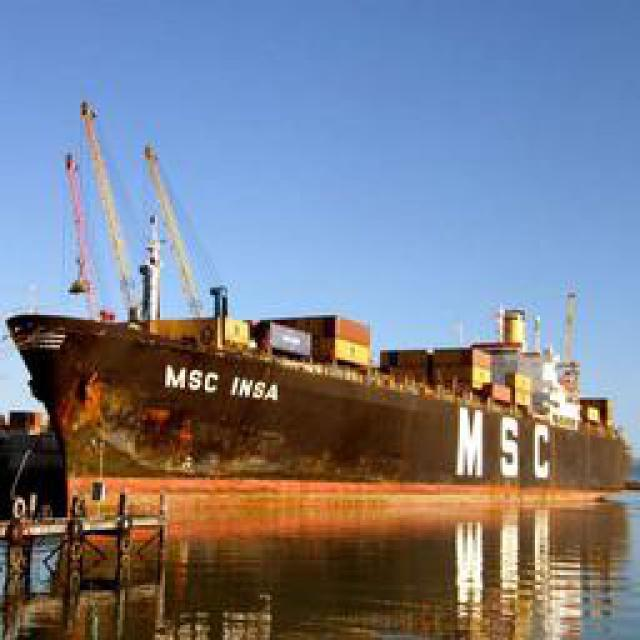Ship: (13, 296, 631, 539)
